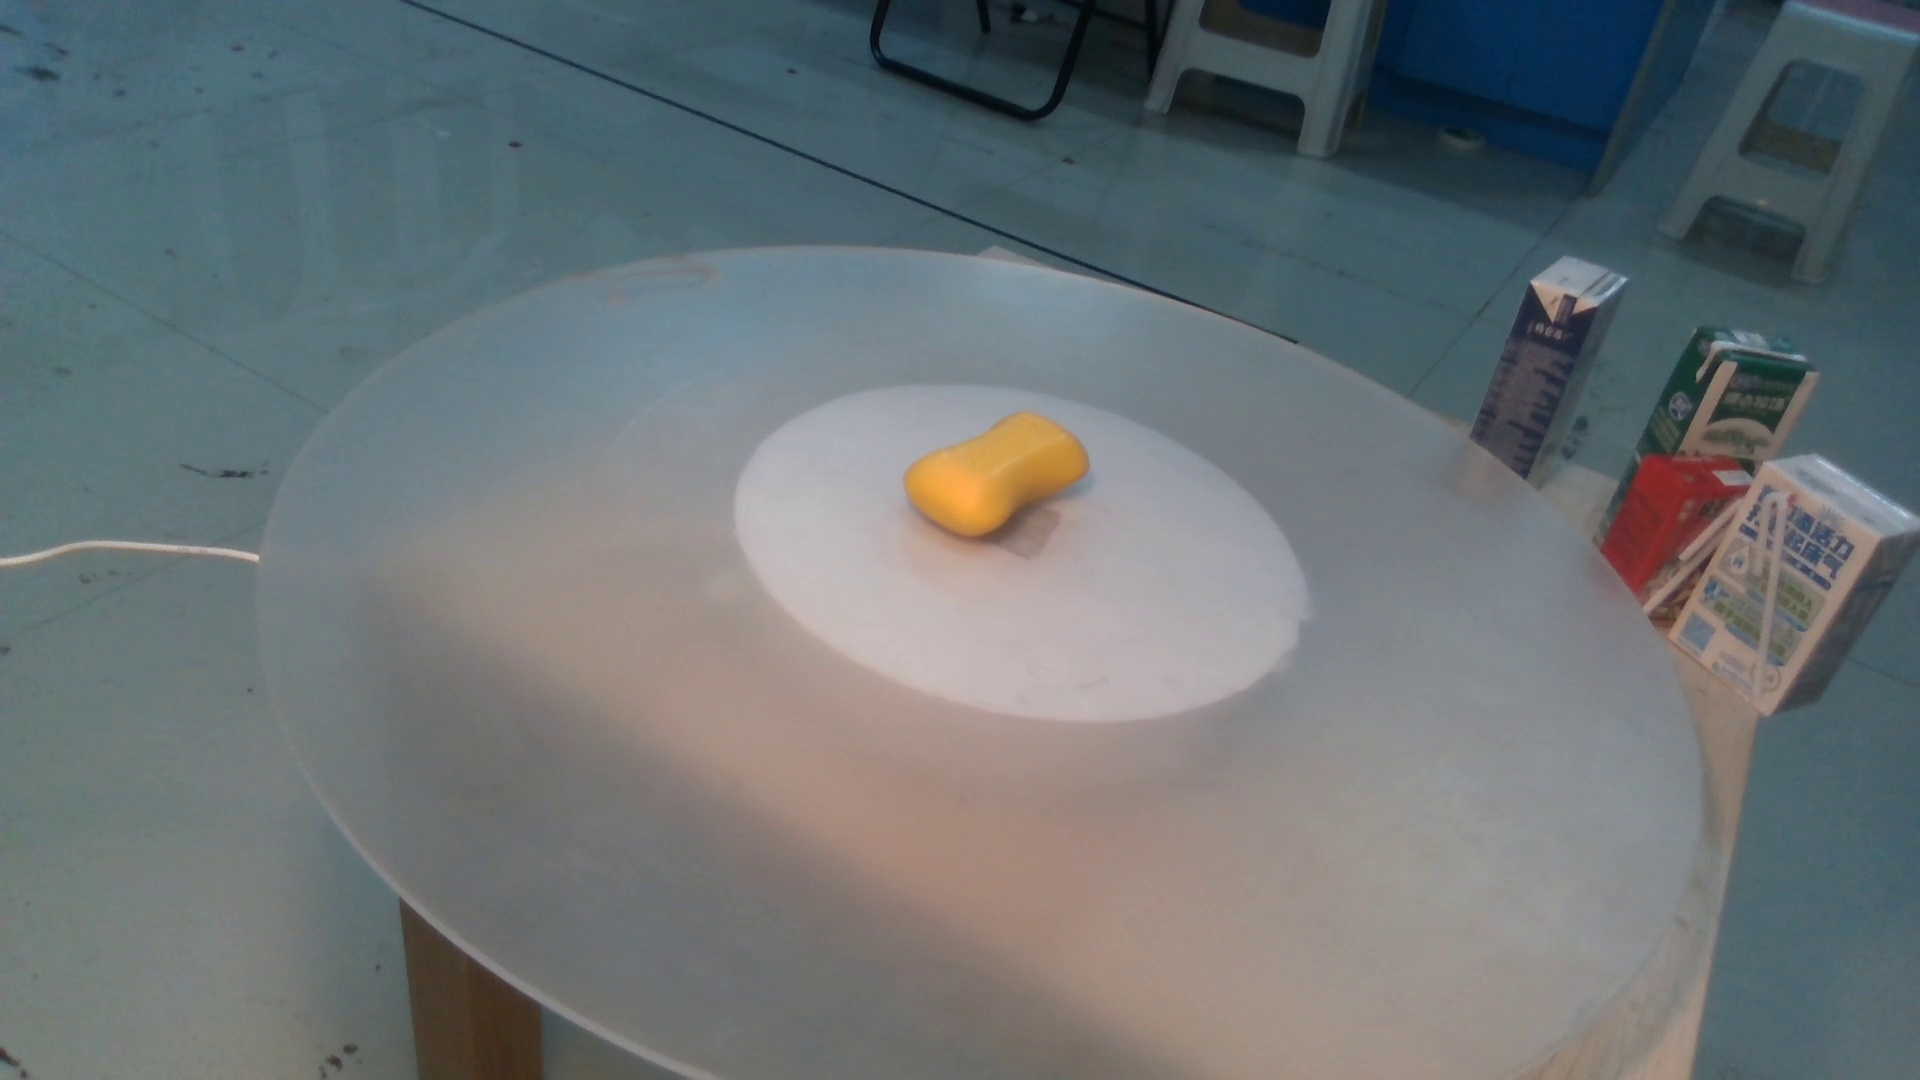CA003_1: (891, 400, 1120, 560)
